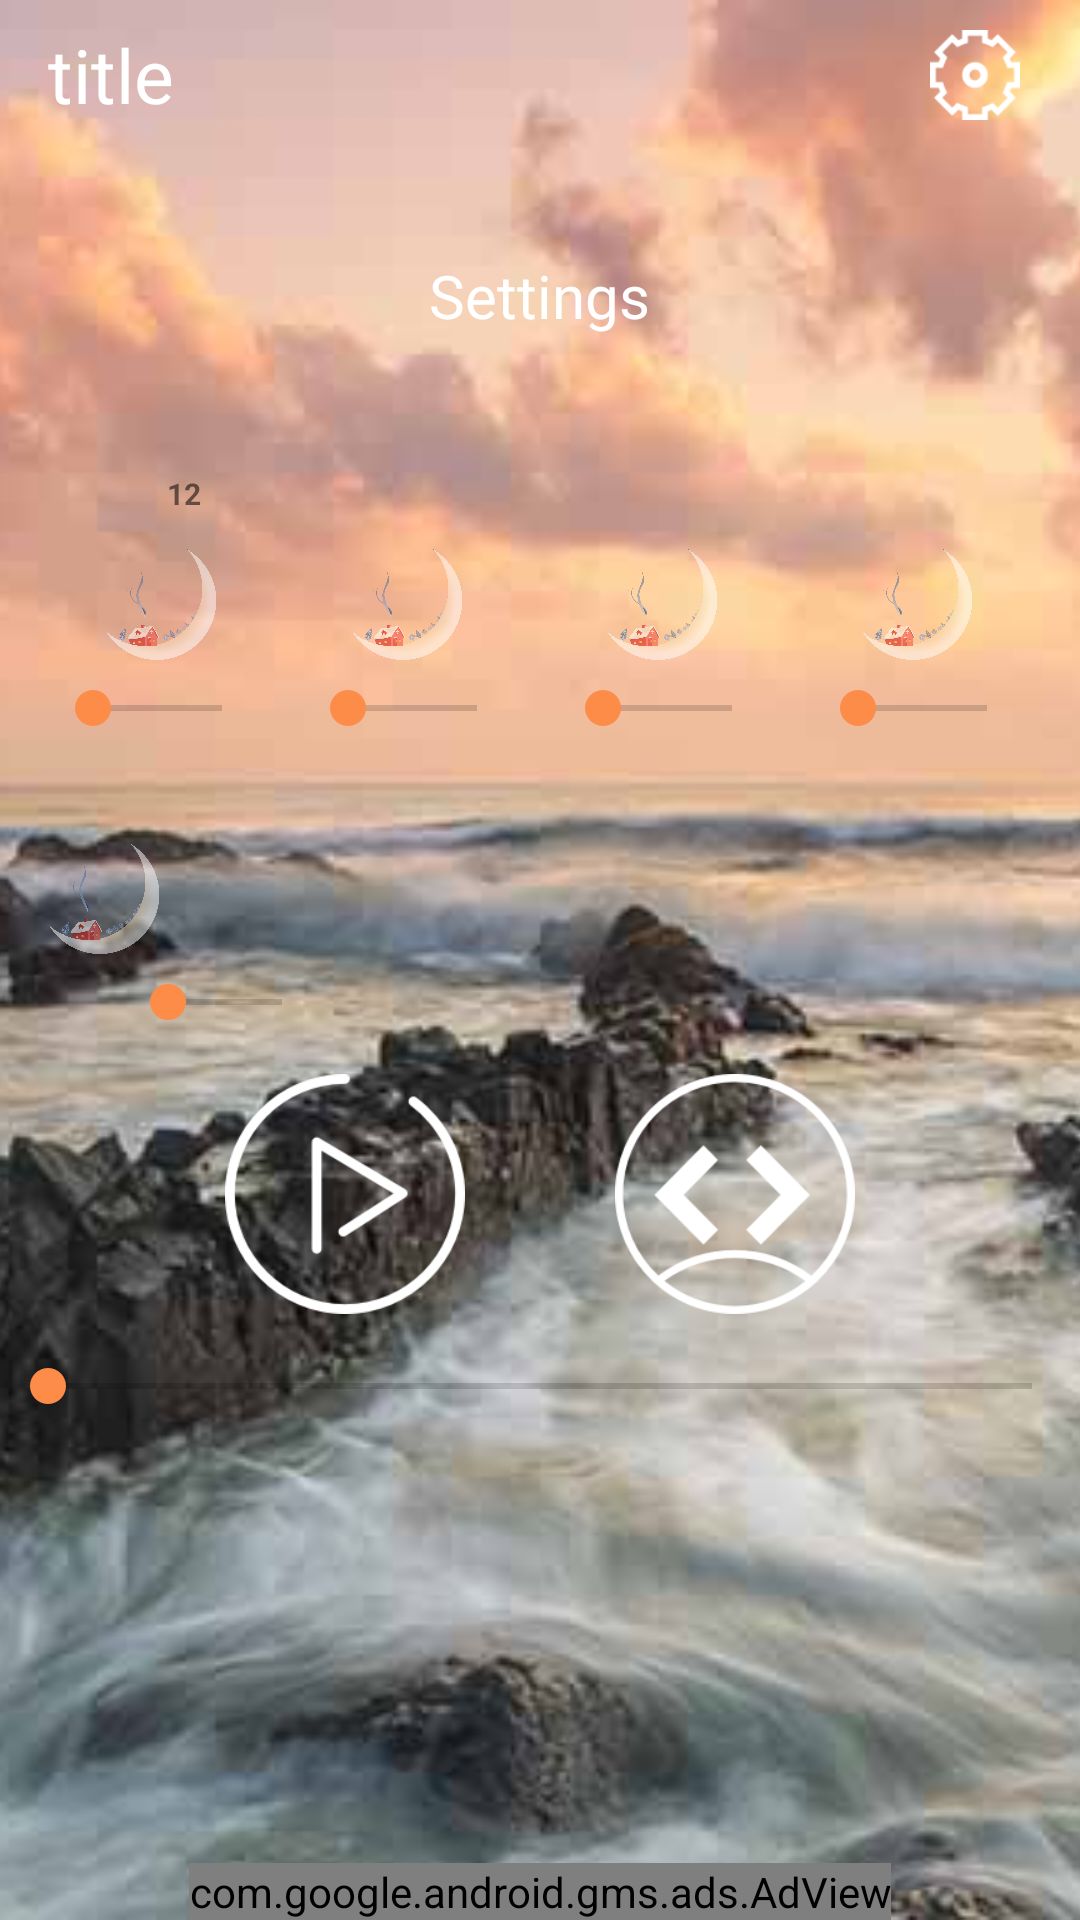

Point at icon controls on the screen. Image size 1080x1920, points as (x,y).
settings: (975,75)
